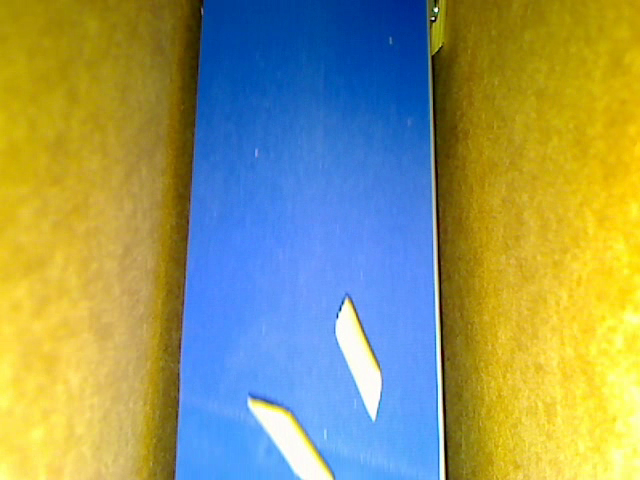penne: (244, 398, 337, 479), (330, 292, 383, 421)
